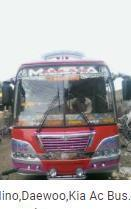bus: (1, 55, 128, 177)
